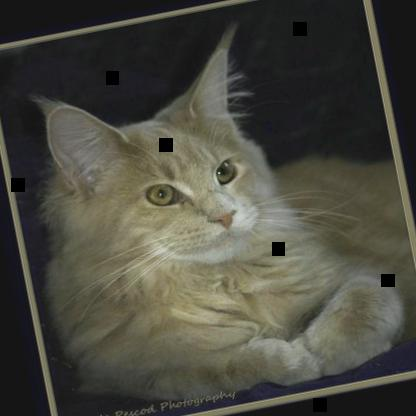cat: (5, 4, 415, 415)
